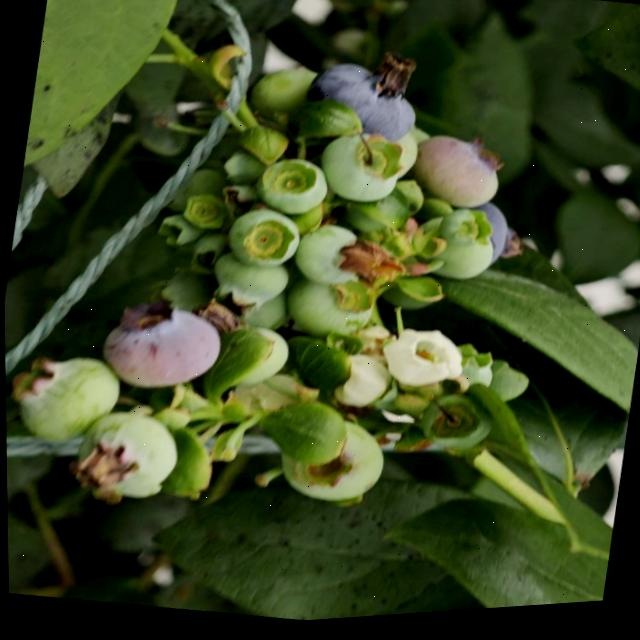RipeBlueBerry: (301, 59, 423, 153)
Semi-RipeBlueBerry: (94, 296, 225, 403), (410, 133, 507, 220)
UnripeBlueBerry: (272, 412, 392, 515), (11, 343, 121, 452), (70, 406, 180, 505), (313, 129, 408, 214), (288, 221, 375, 300)
